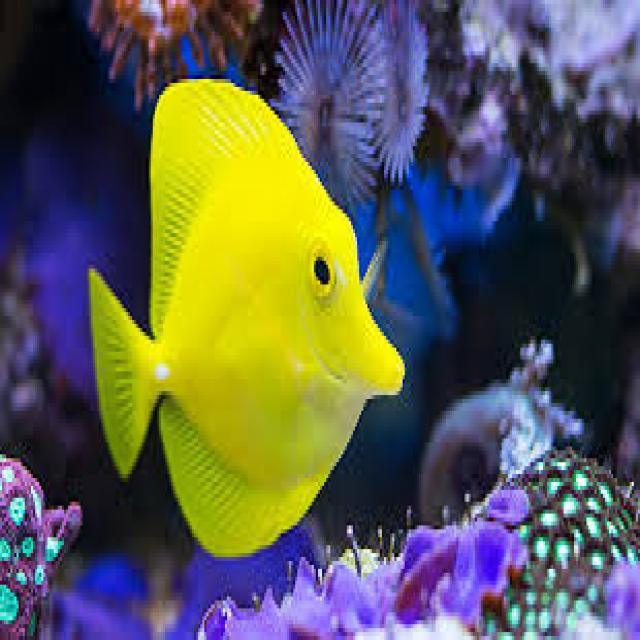YellowTang: (78, 39, 420, 576)
